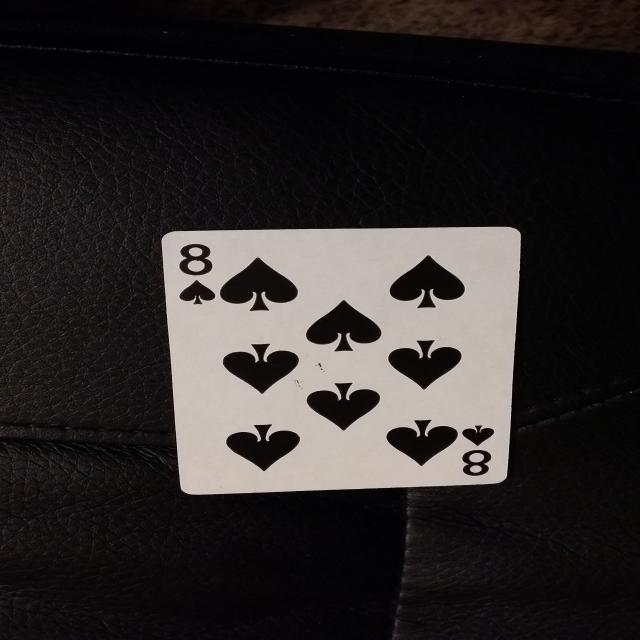8s: (169, 240, 233, 310), (455, 423, 501, 480)
